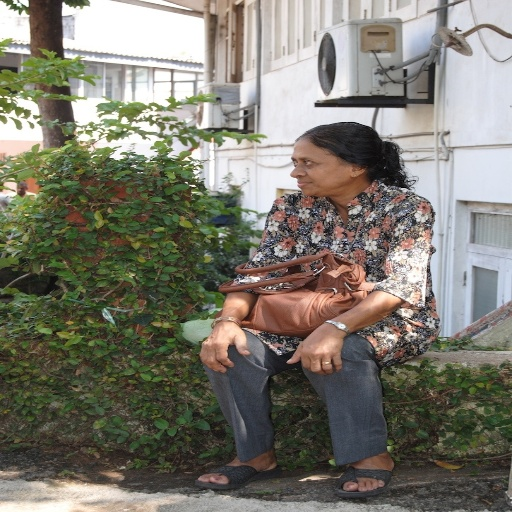hand: (282, 325, 348, 375), (209, 314, 256, 375)
